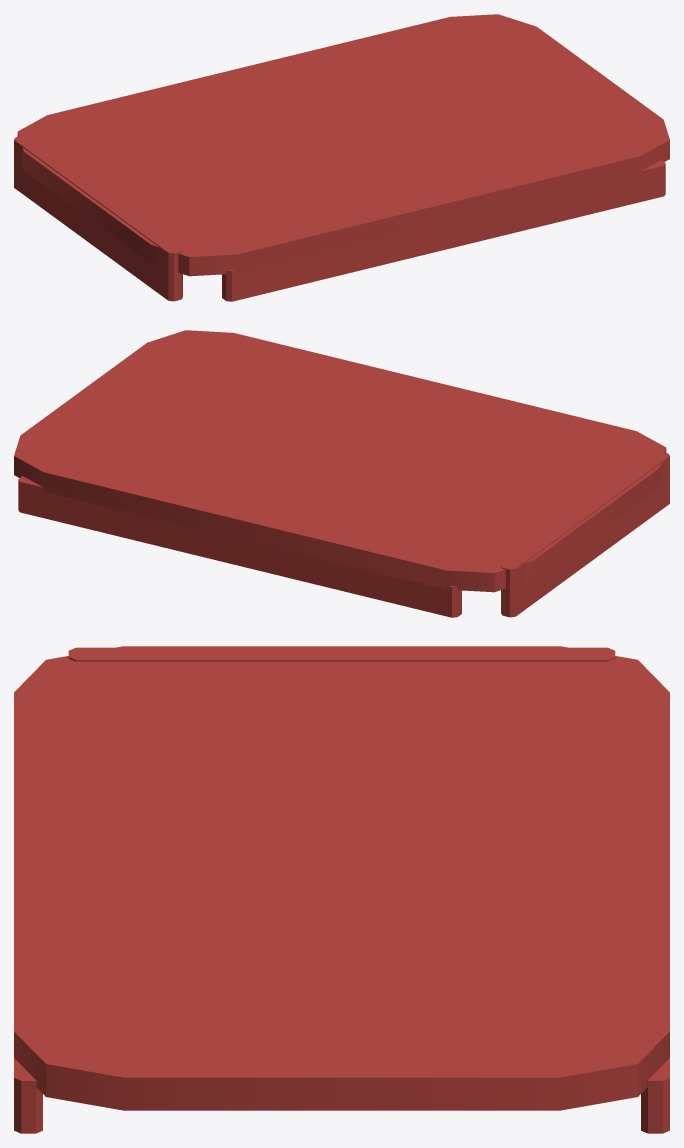
The model's file is tidy_tray_lod1.glb.
3 renders of one model, top to bottom at view 1: azimuth 30°, elevation 25°; view 2: azimuth 150°, elevation 25°; view 3: azimuth 270°, elevation 25°, orthographic. The views are drawn at different scales.
Parts seen in each view (by area): view 1: tidy_tray_lod1; view 2: tidy_tray_lod1; view 3: tidy_tray_lod1.
Part boxes in pixels (x1,y1,x2,y2): tidy_tray_lod1: (14, 14, 669, 301); tidy_tray_lod1: (14, 330, 669, 617); tidy_tray_lod1: (14, 646, 669, 1133).
Size of the model in its own units: 0.28 by 0.025 by 0.18.
